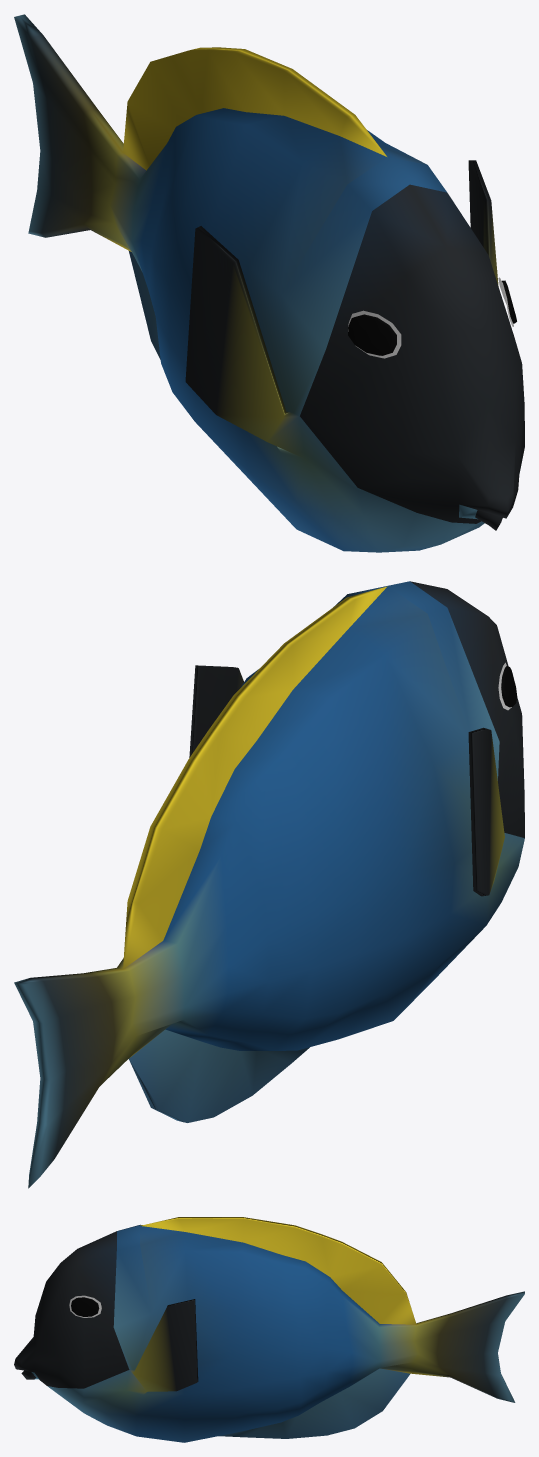
Rendered from underwater-fish-tang-fish_v1.fbx.
3 renders of one model, top to bottom at view 1: azimuth 30°, elevation 25°; view 2: azimuth 150°, elevation 25°; view 3: azimuth 270°, elevation 25°, orthographic. The views are drawn at different scales.
Parts seen in each view (by area): view 1: Tang Fish_v1; view 2: Tang Fish_v1; view 3: Tang Fish_v1.
Part boxes in pixels (bbox=[...]): Tang Fish_v1: bbox=[14, 14, 524, 552]; Tang Fish_v1: bbox=[14, 581, 524, 1188]; Tang Fish_v1: bbox=[14, 1217, 524, 1442].
Size of the model in its own units: 0.0698 by 0.0948 by 0.2.
